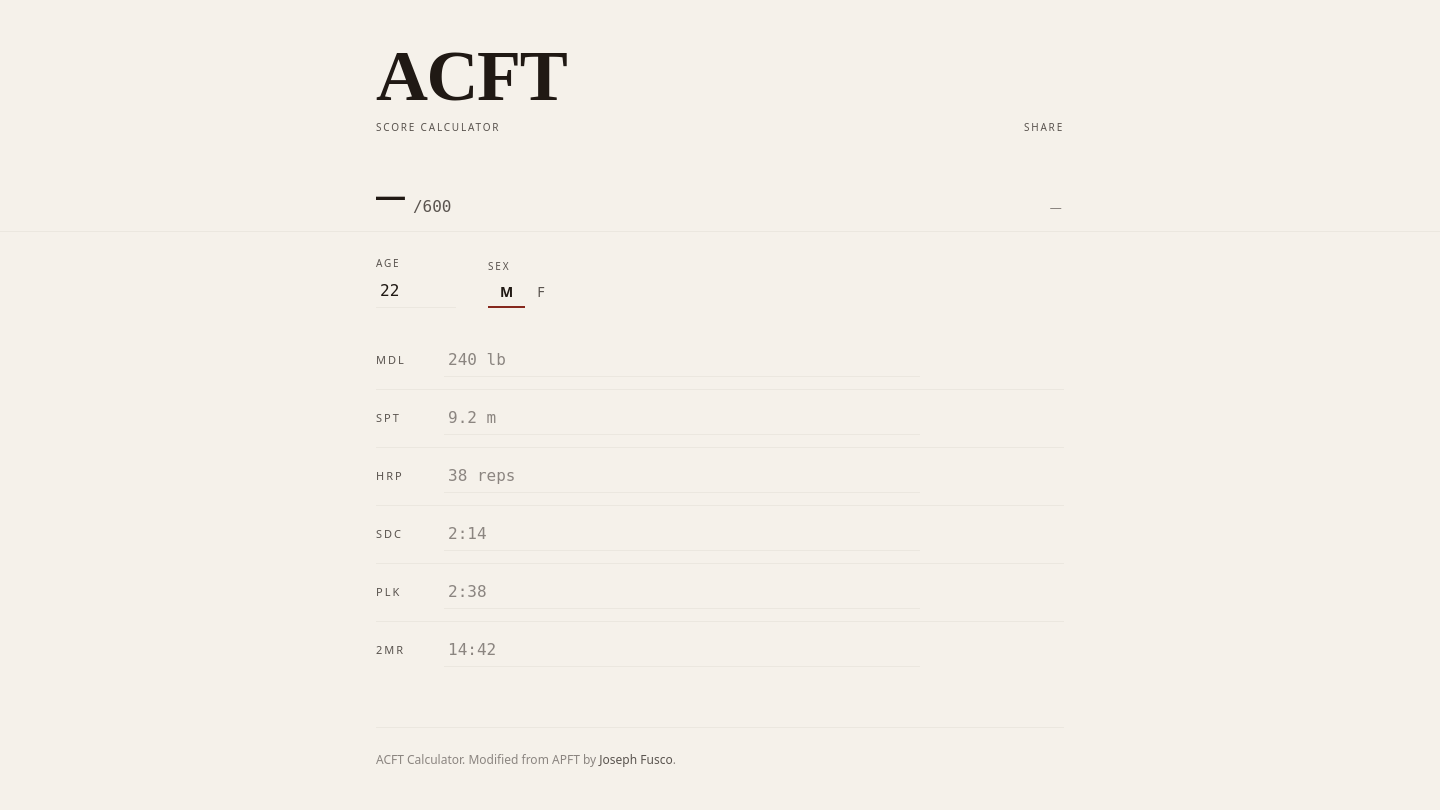
Test: App integration › typing in MDL updates the total in the strip
Type "240" into the field labelled "MDL".
click(682, 360); type("240")  # box 444,344 -> 920,377
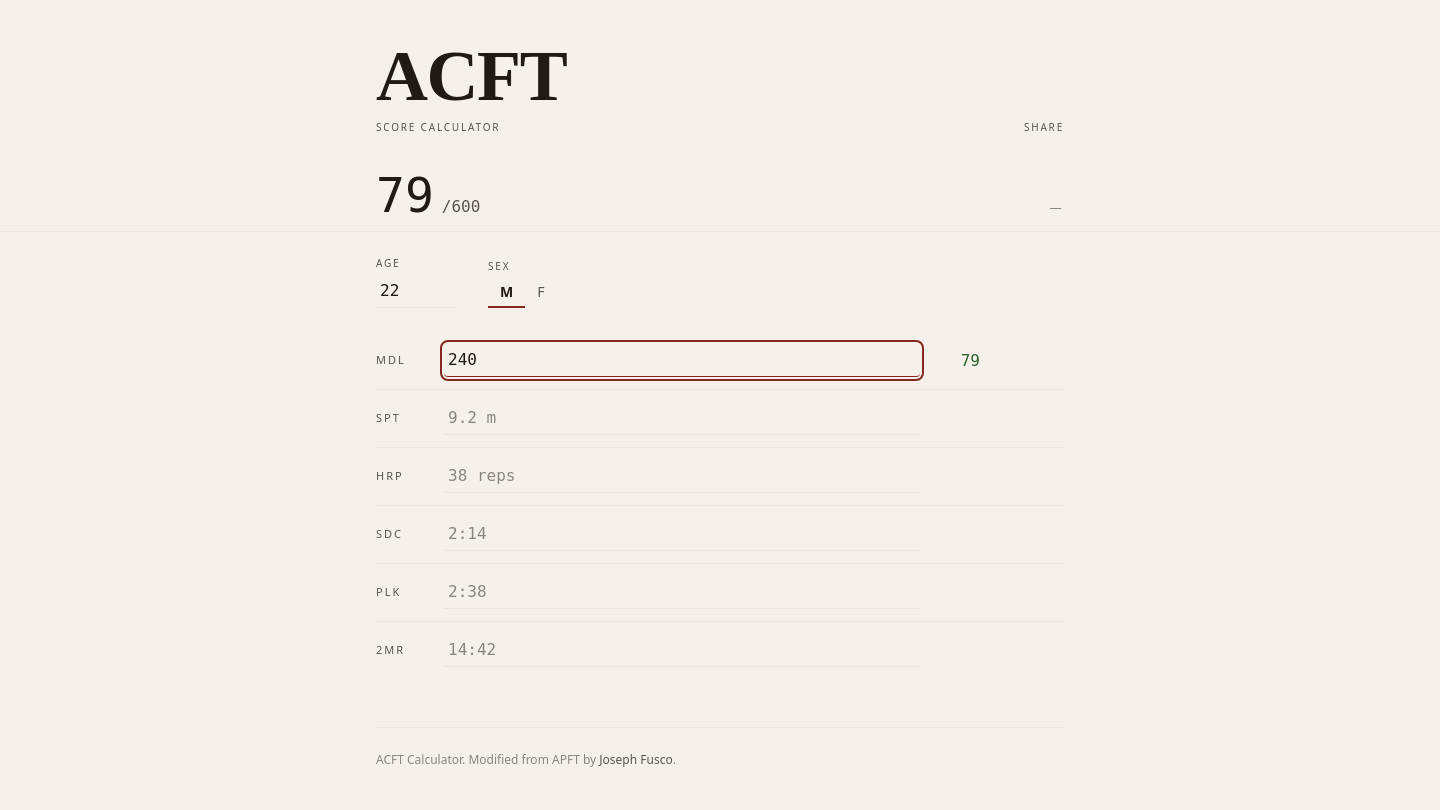
Result: the text with test id "acft-total" reads "79" at 376,167 -> 434,223
